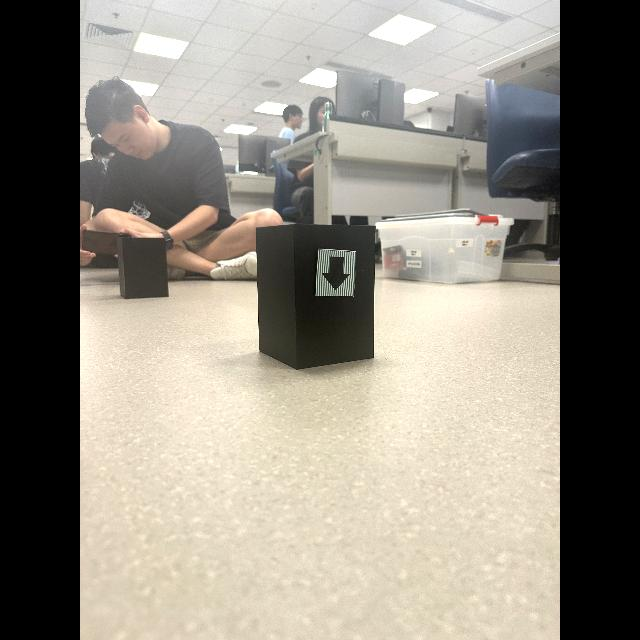DOWN: (322, 257, 350, 290)
